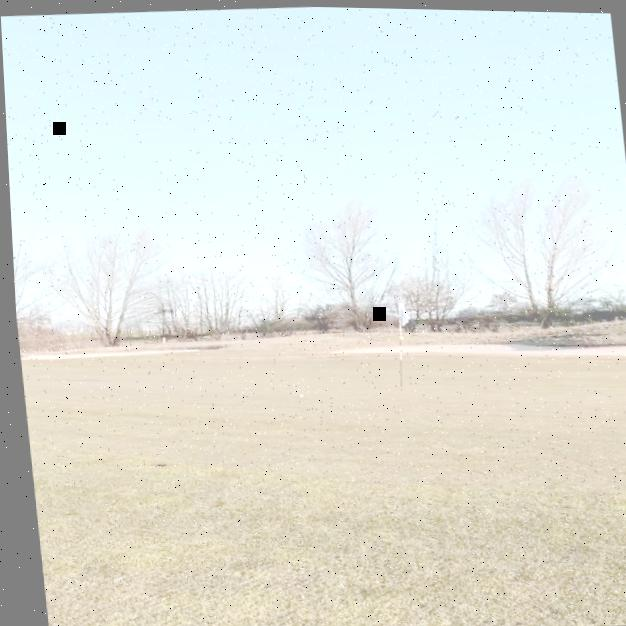GolfBall: (292, 392, 301, 397)
